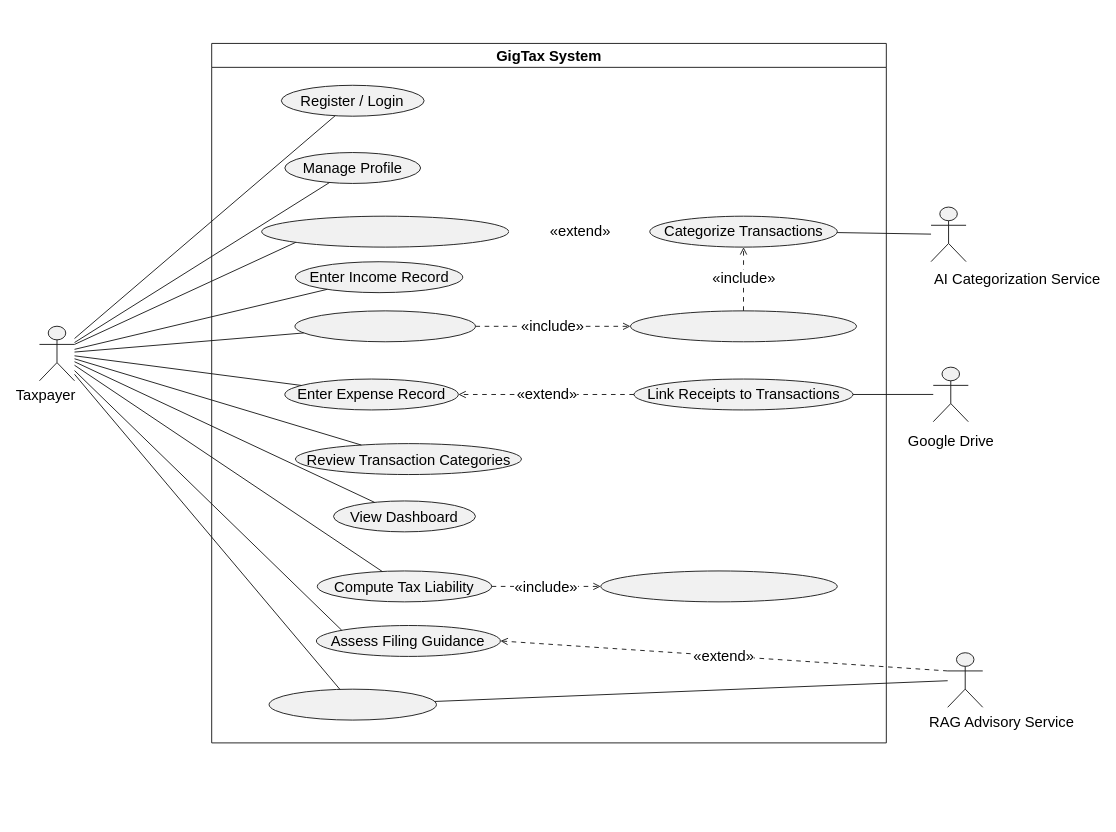
Image size: 1116x832. Some labels were removed from this diagram. The centre of each missing label's shape, as x and y in pixels:
"Create Custom Classification Rules" goes at point (385, 231).
"Generate Self Assessment Report" goes at point (718, 586).
"Parse and Extract Transactions" goes at point (743, 326).
"Query AI Tax Advisor" goes at point (352, 704).
"Upload Bank Statement" goes at point (384, 326).
